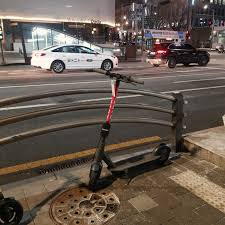guide_blocks: (172, 174, 224, 204)
kick_board: (88, 67, 169, 187)
kick_handler: (94, 68, 144, 87)
kick_neck: (95, 83, 121, 158)
kick_wheel: (86, 163, 101, 186), (155, 146, 171, 162)
